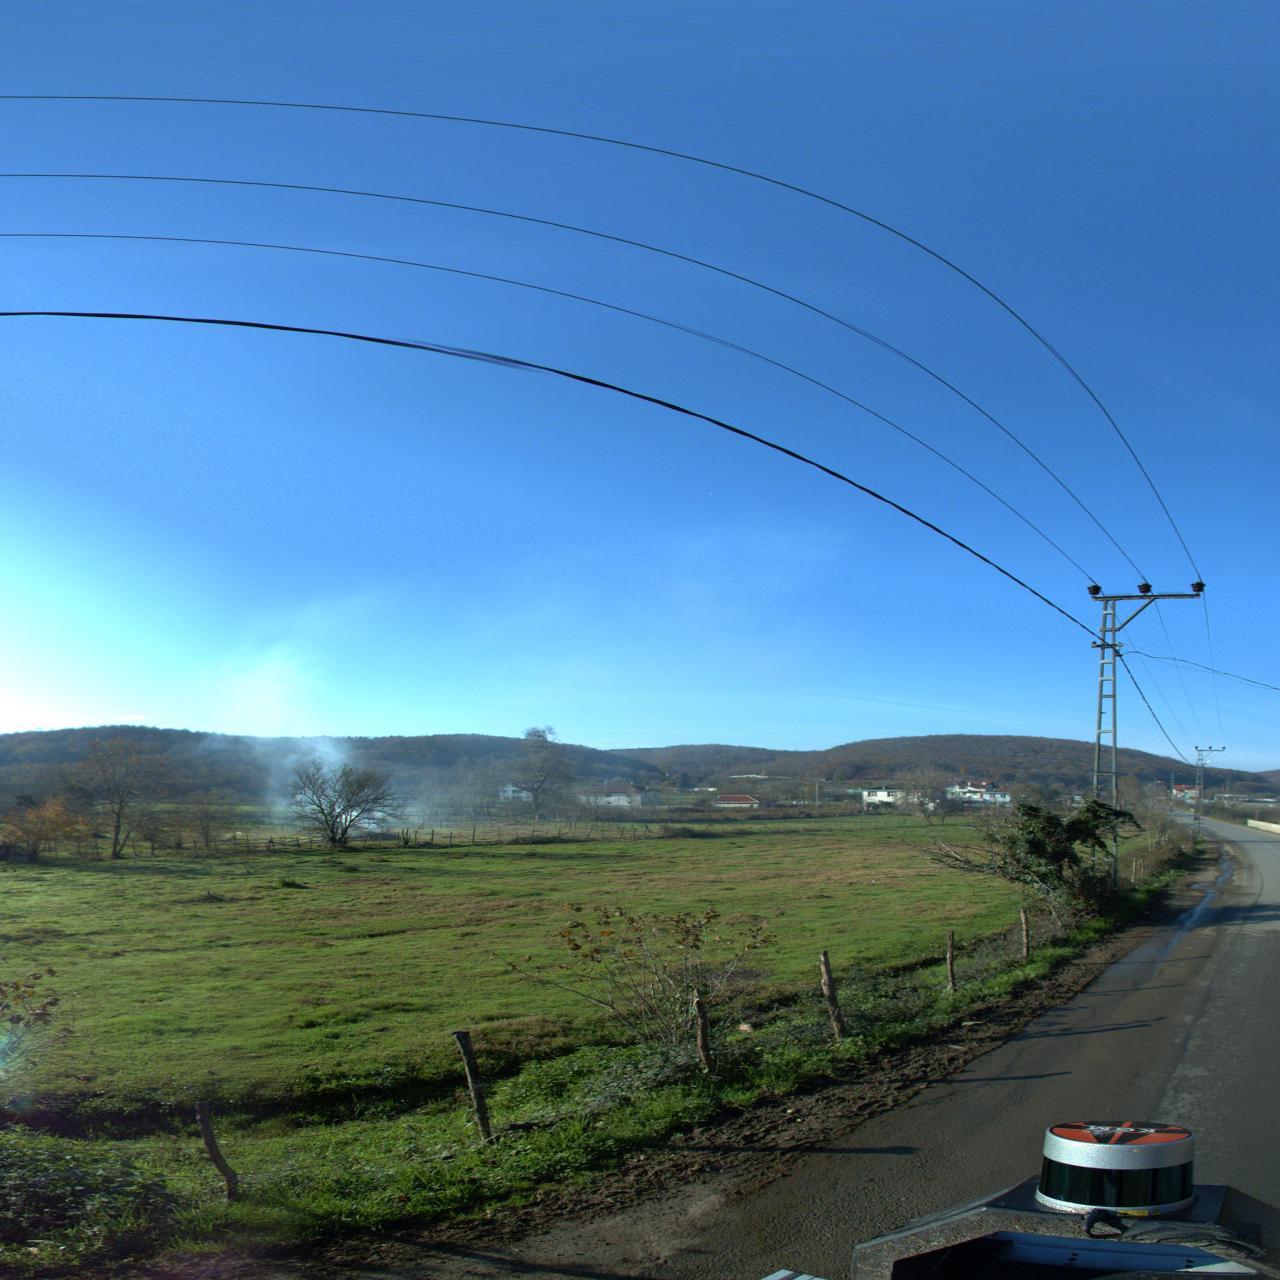Utility Pole Information Plate: (1115, 790, 1118, 798)
